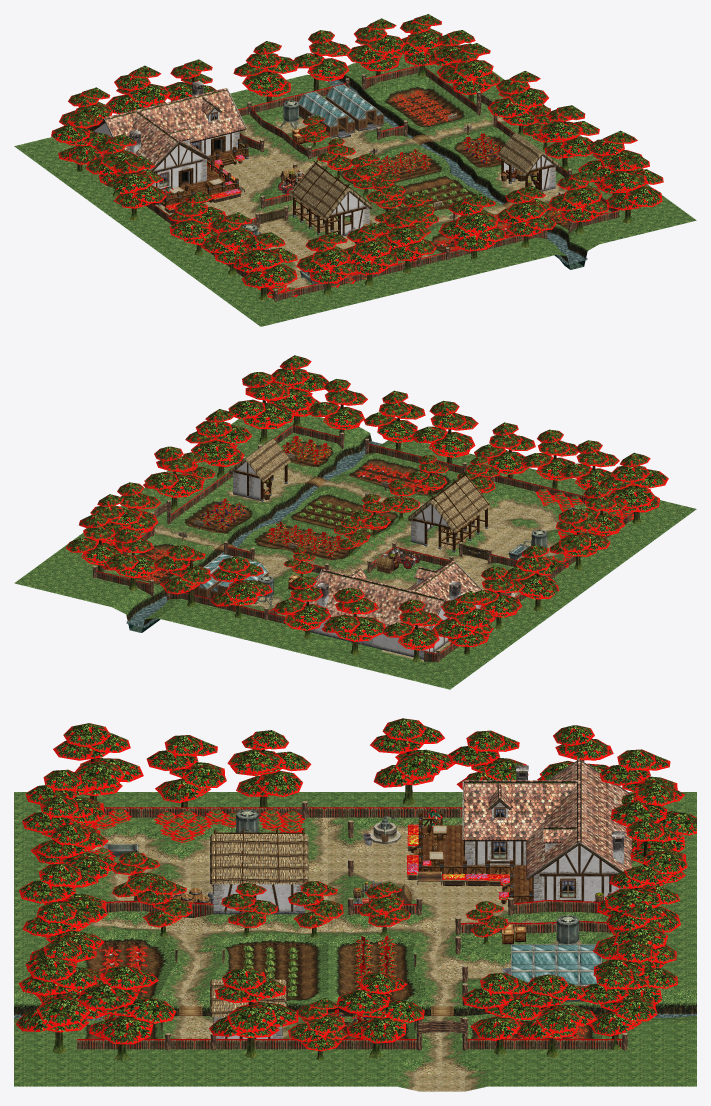
Rendered from PerzelFarm.obj.
3 views of the same model, one above another, from view 1: azimuth 30°, elevation 25°; view 2: azimuth 150°, elevation 25°; view 3: azimuth 270°, elevation 25° (orthographic). The views are drawn at different scales.
Visible parts, largest first — view 1: Object.008; view 2: Object.008; view 3: Object.008.
Part boxes in pixels (<box>): Object.008: <box>14,14,696,326</box>; Object.008: <box>14,355,696,689</box>; Object.008: <box>14,718,696,1091</box>.
Bounding box in the file's own units: 60.95 × 11.72 × 59.76.
24 materials, 24 textured.
